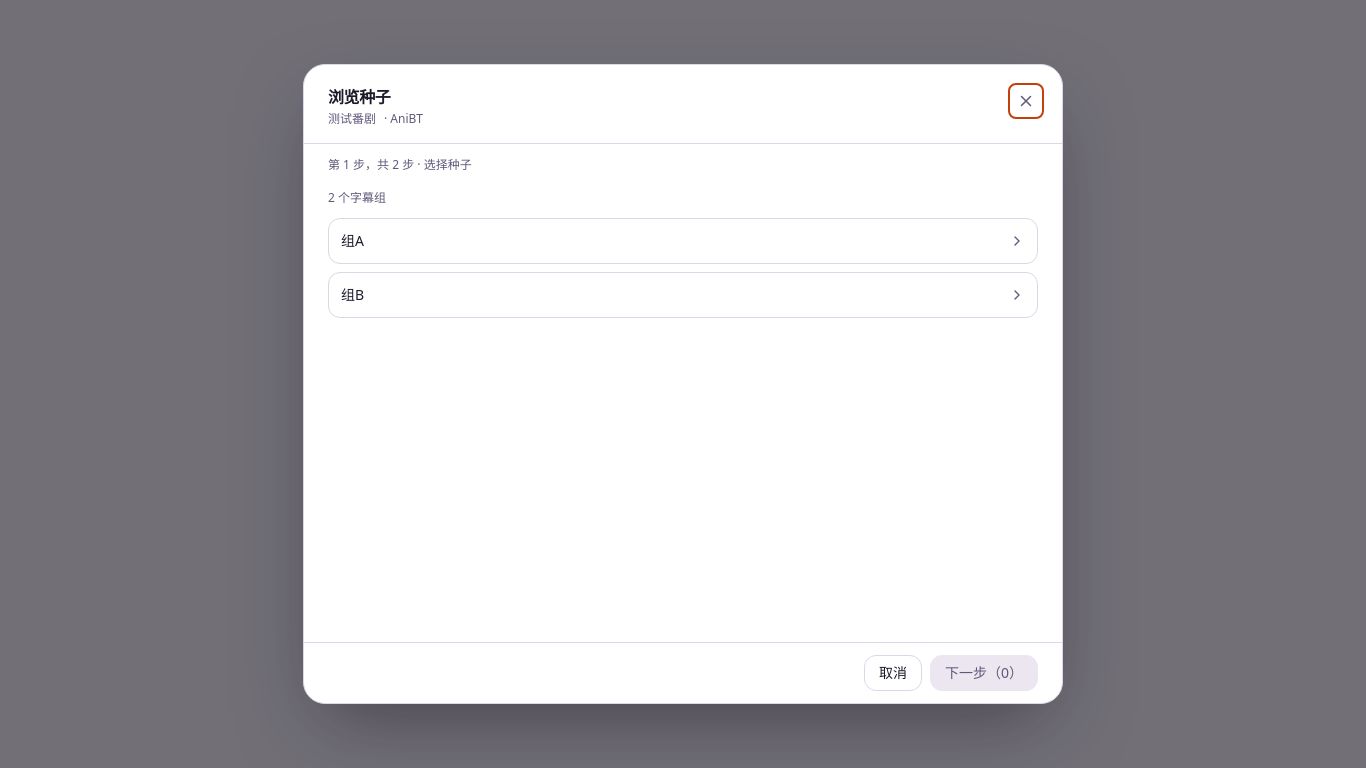
Test: OneShotDialog 第一步：种子目录 › 打开先只列字幕组：不取任何组的种子；进入一个组才取它的种子列表并按一次性浏览读取
Click the button "组A" at (352, 240), box [328,218,1038,264]
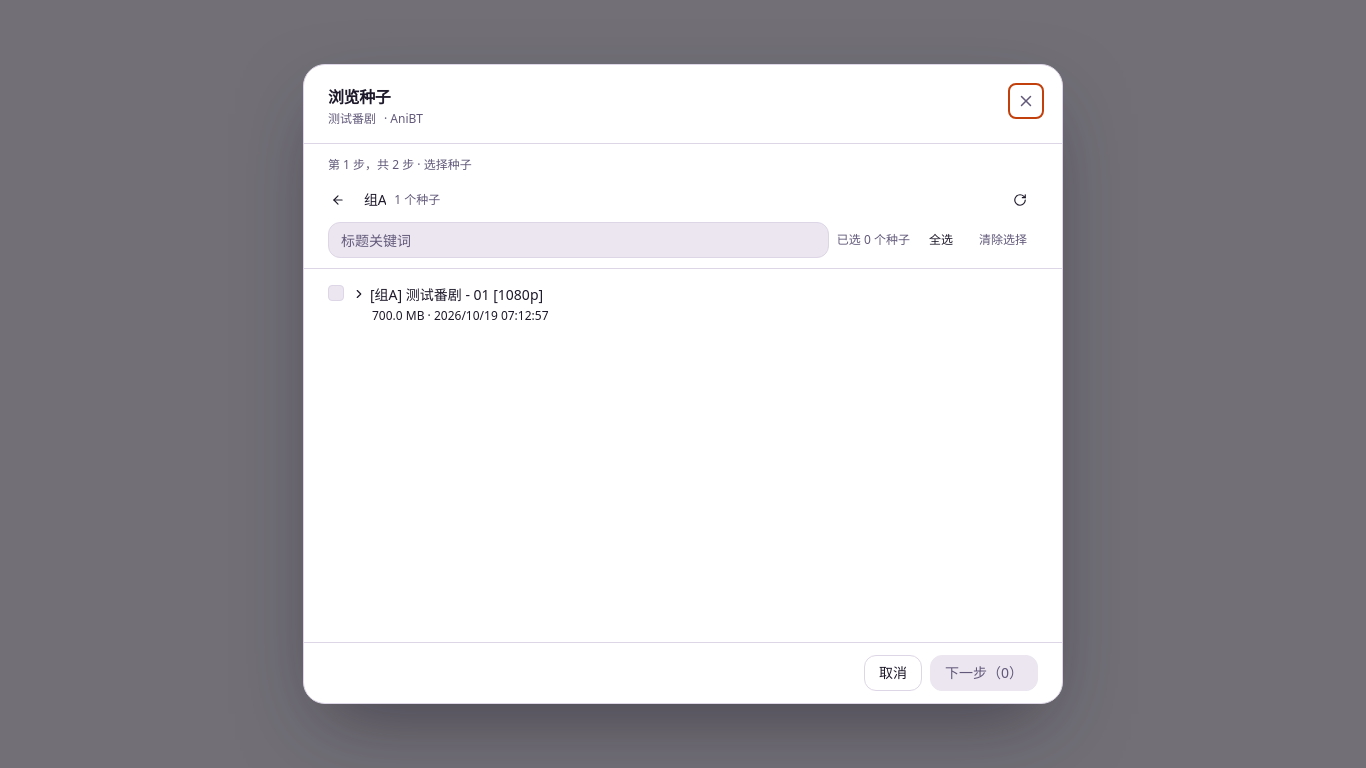
Result: the checkbox named "[组A] 测试番剧 - 01 [1080p]" is shown at [328,285,344,301]
